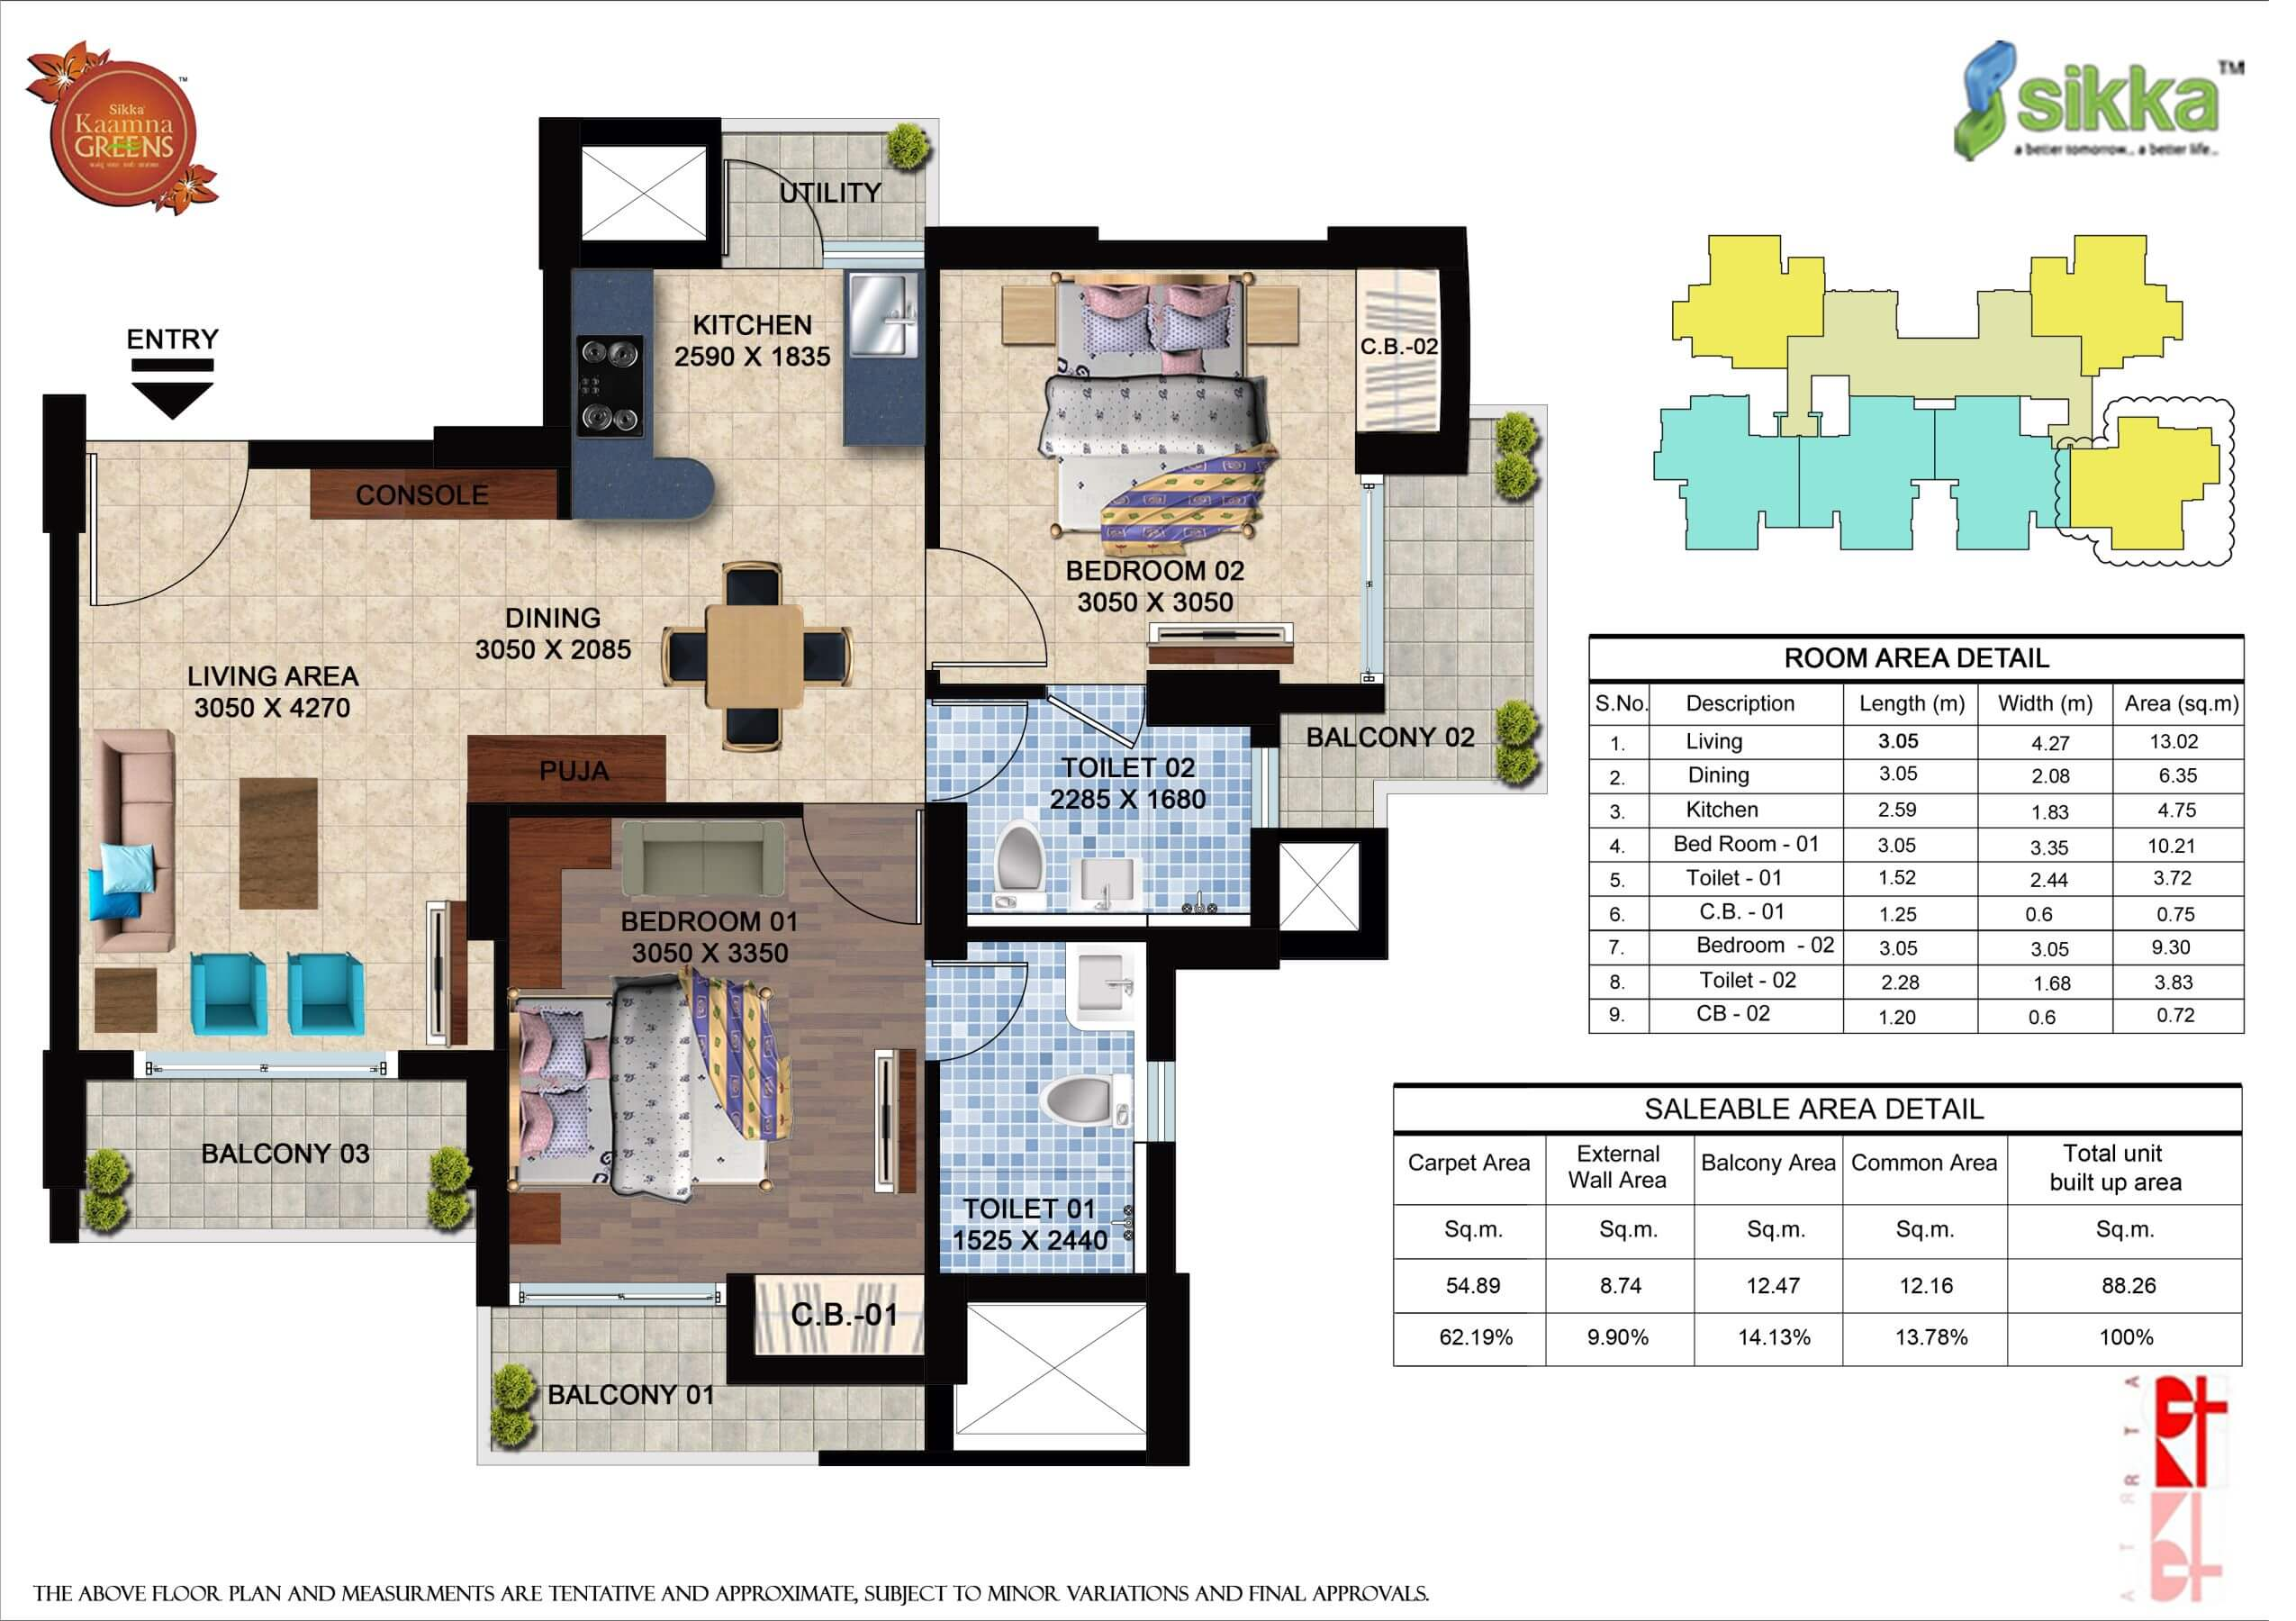door: (88, 470, 251, 611), (793, 821, 919, 932), (945, 549, 1051, 672), (935, 698, 1031, 802), (940, 961, 1031, 1067), (724, 151, 821, 249), (1049, 696, 1145, 751)
